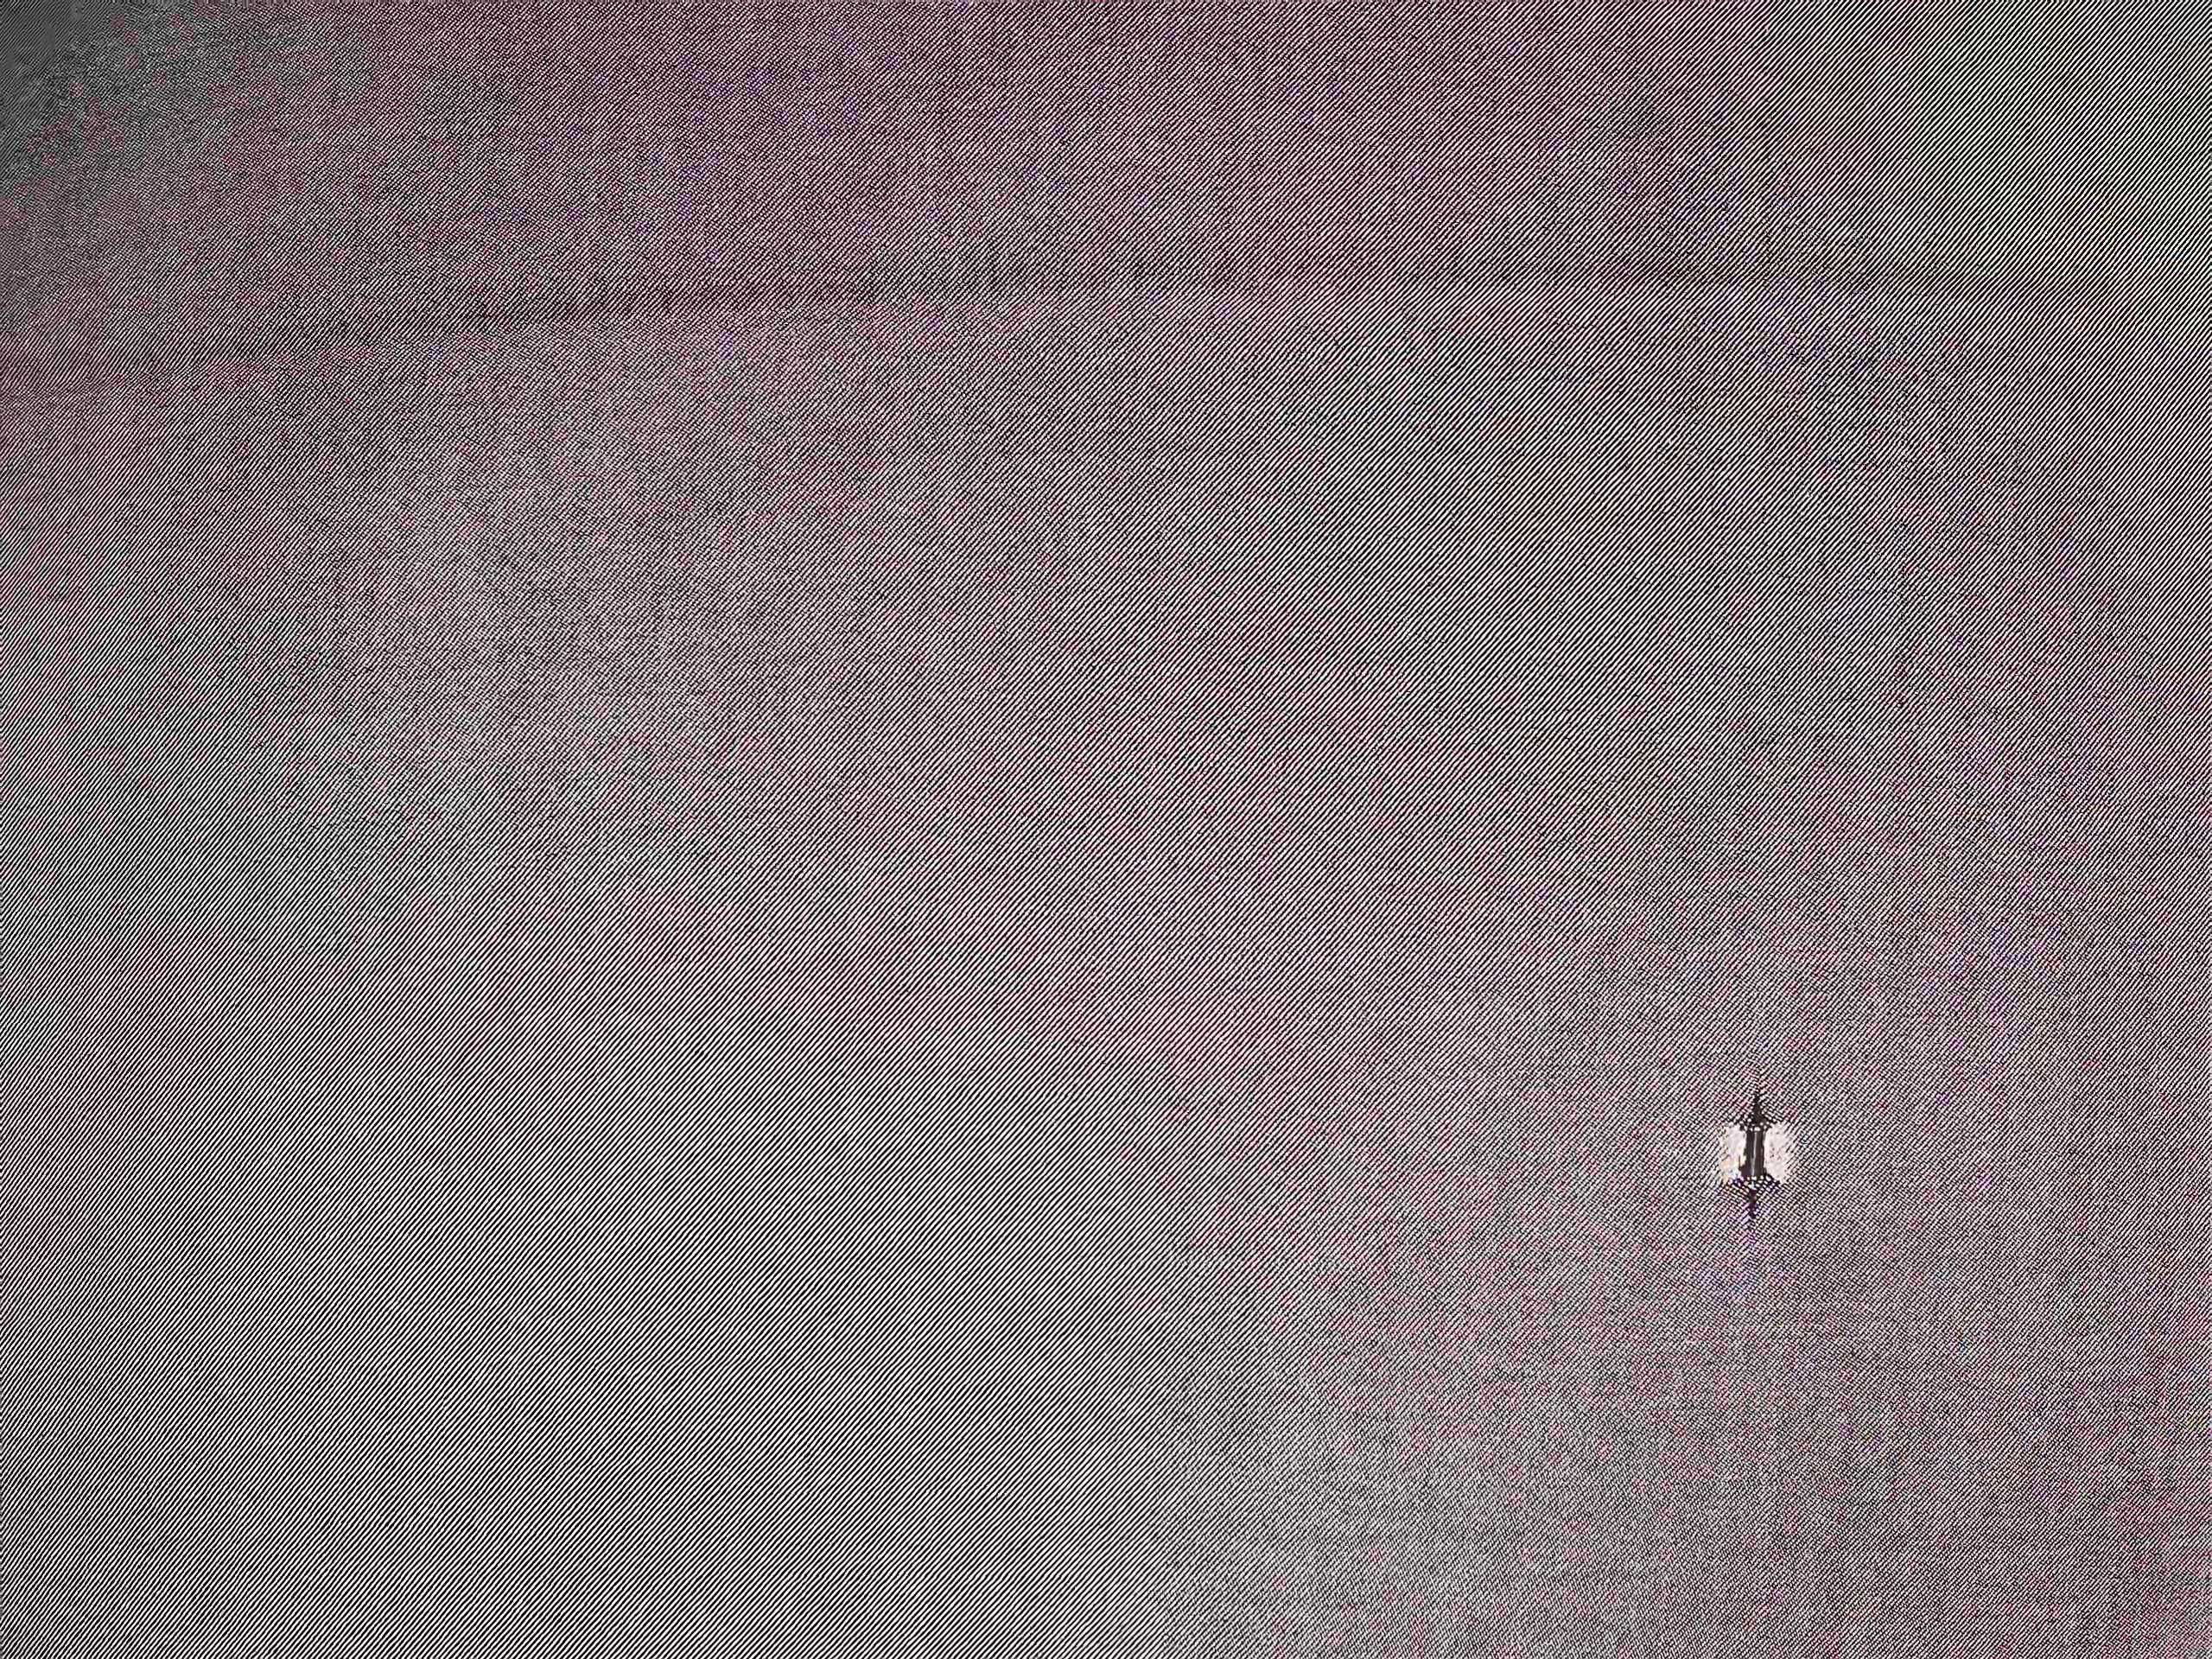rubbing-hole: (1709, 1070, 1806, 1239)
